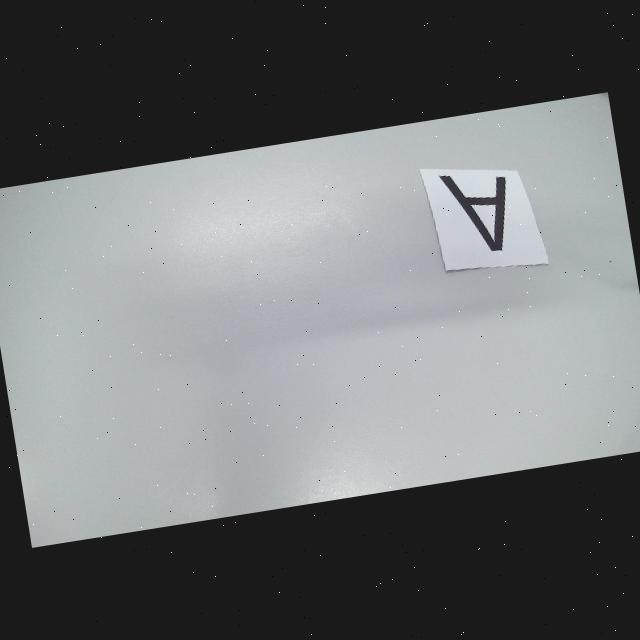FAKE: (438, 164, 518, 258)
